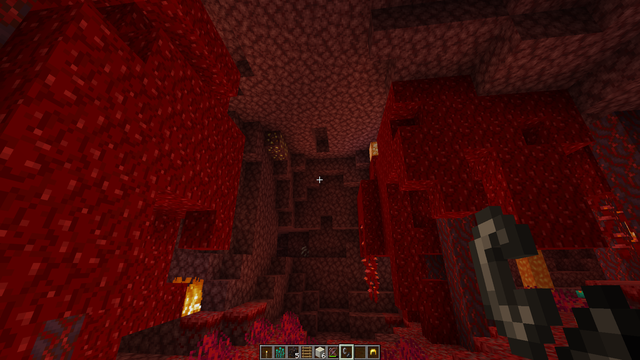nethergold: (264, 128, 289, 163)
